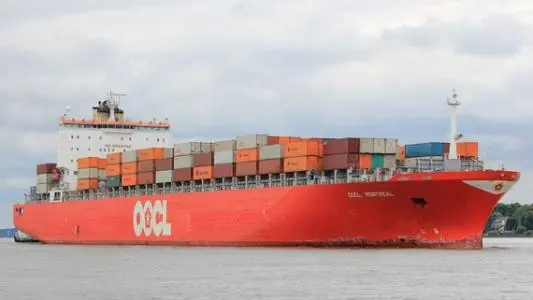Cargoship: (5, 81, 520, 242)
